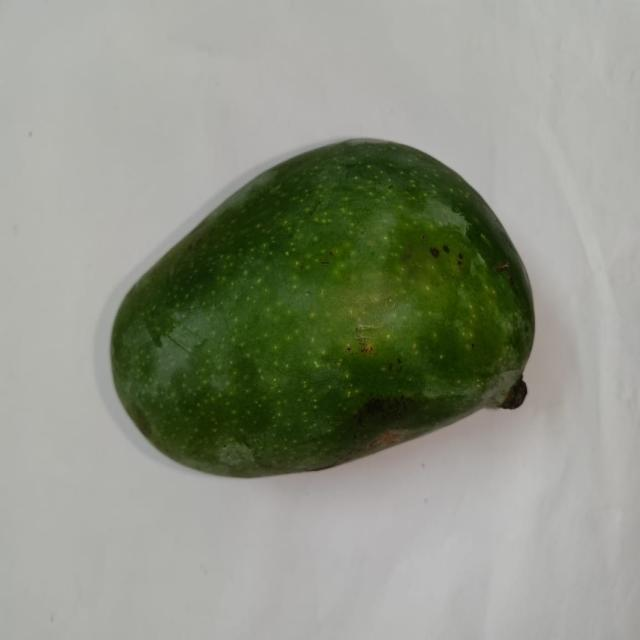rotten_mango: (104, 137, 534, 476)
